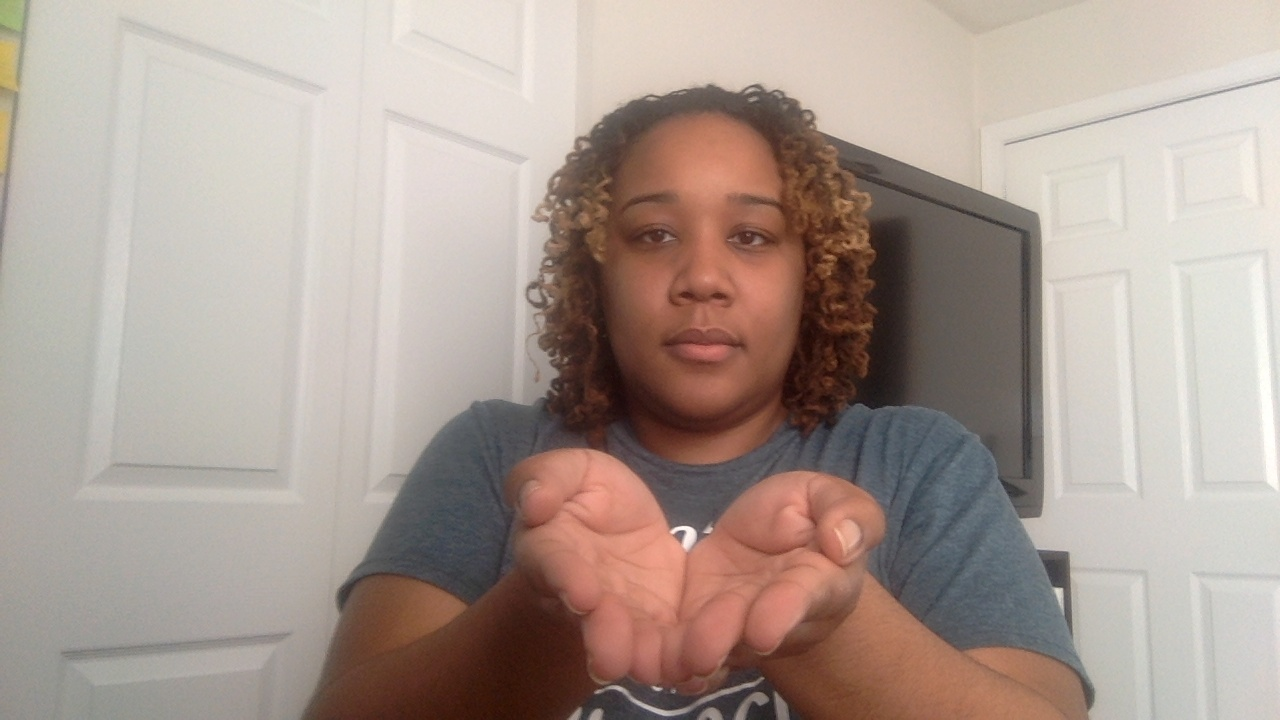book: (486, 447, 905, 699)
